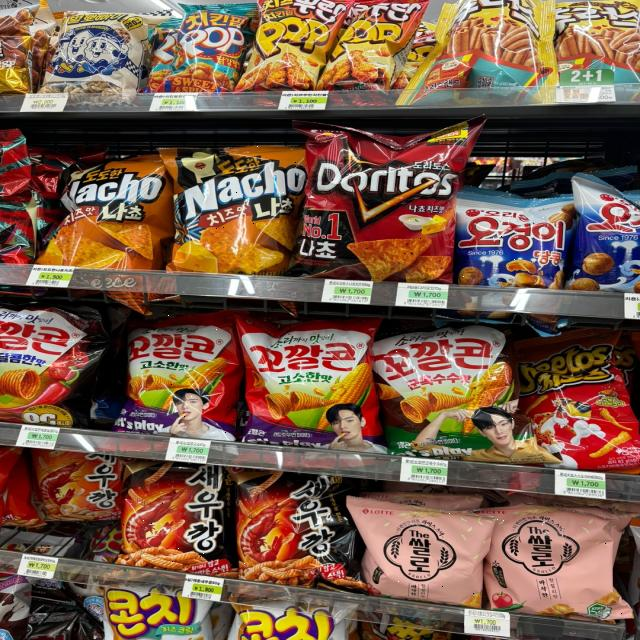product: (303, 124, 469, 286), (234, 320, 378, 445), (166, 146, 297, 267), (380, 330, 519, 444), (119, 312, 236, 440), (492, 507, 624, 615), (234, 467, 348, 587), (118, 458, 232, 566), (358, 510, 489, 603), (471, 199, 578, 285)
